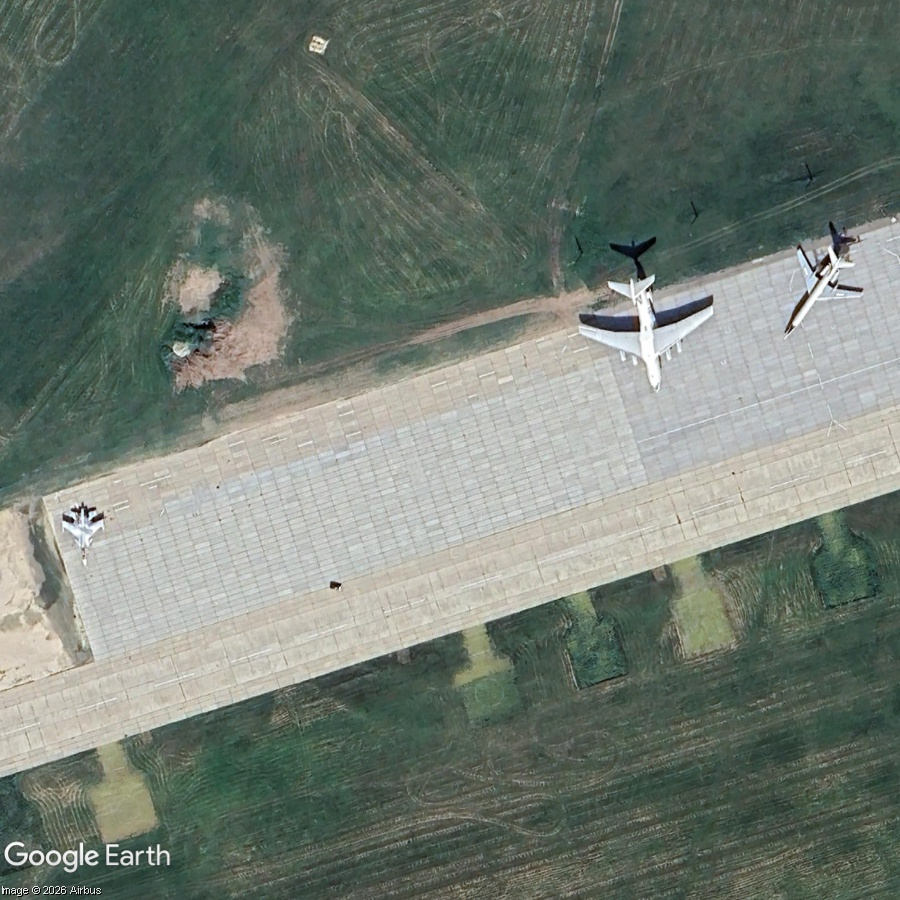Máy bay chiến đấu: (56, 499, 112, 572)
Máy bay ném bom: (751, 225, 880, 359)
Máy bay trinh sát/Chỉ huy/Cảnh báo: (563, 258, 727, 411)
Máy bay vận tải/Tiếp dầu: (565, 257, 729, 411)
